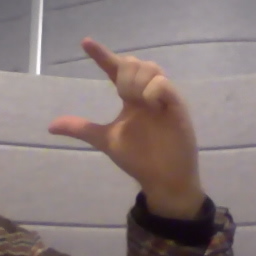C: (49, 34, 202, 182)
